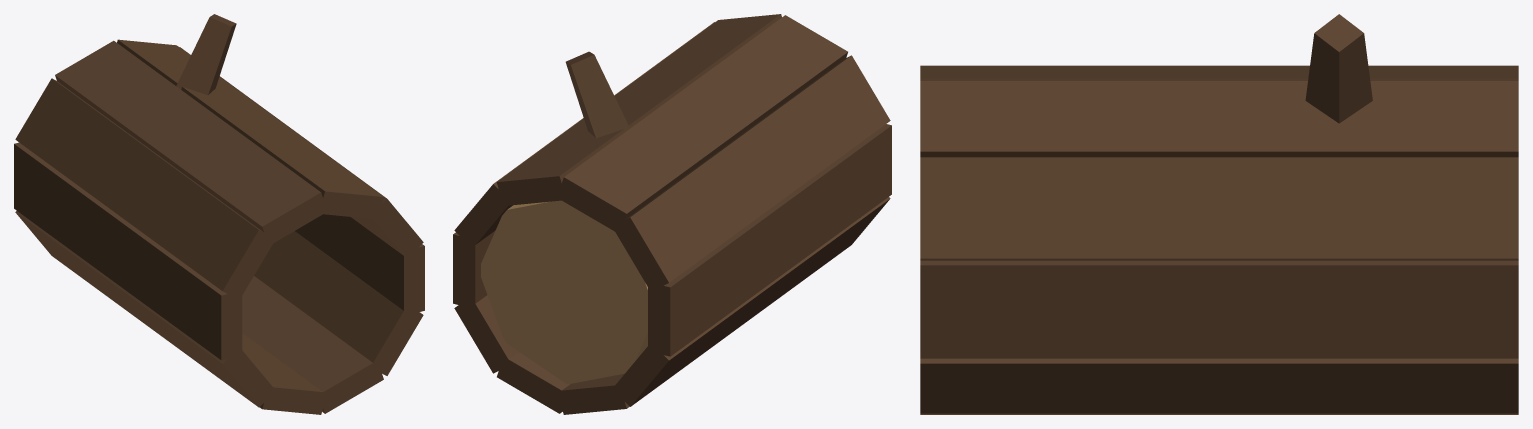
The model's file is Prop_Hoard_Cache_Empty_LOD1.glb.
3 views of the same model, side by side, from view 1: azimuth 30°, elevation 25°; view 2: azimuth 150°, elevation 25°; view 3: azimuth 270°, elevation 25° (orthographic). The views are drawn at different scales.
Visible parts, largest first — view 1: Prop_Hoard_Cache_Empty; view 2: Prop_Hoard_Cache_Empty; view 3: Prop_Hoard_Cache_Empty.
Part boxes in pixels (x1=…): Prop_Hoard_Cache_Empty: x1=14, y1=14, x2=424, y2=414; Prop_Hoard_Cache_Empty: x1=453, y1=14, x2=891, y2=414; Prop_Hoard_Cache_Empty: x1=920, y1=14, x2=1518, y2=414.
Bounding box in the file's own units: 0.34 × 0.4526 × 0.6.
